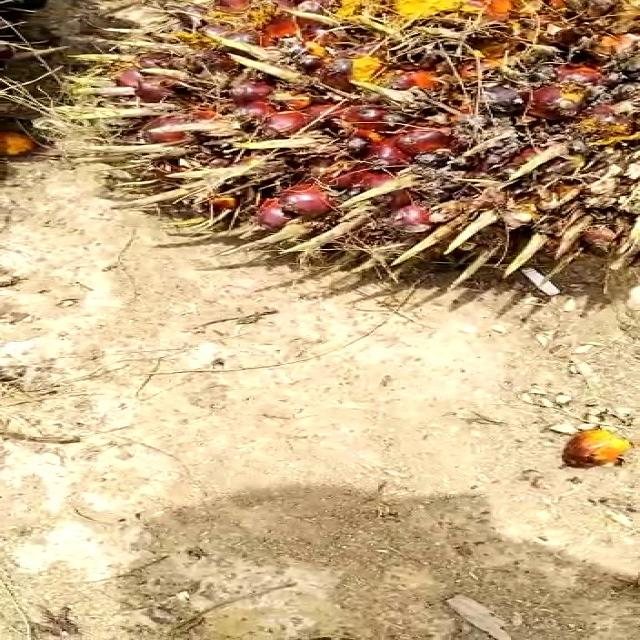palm oil: (55, 0, 638, 302)
